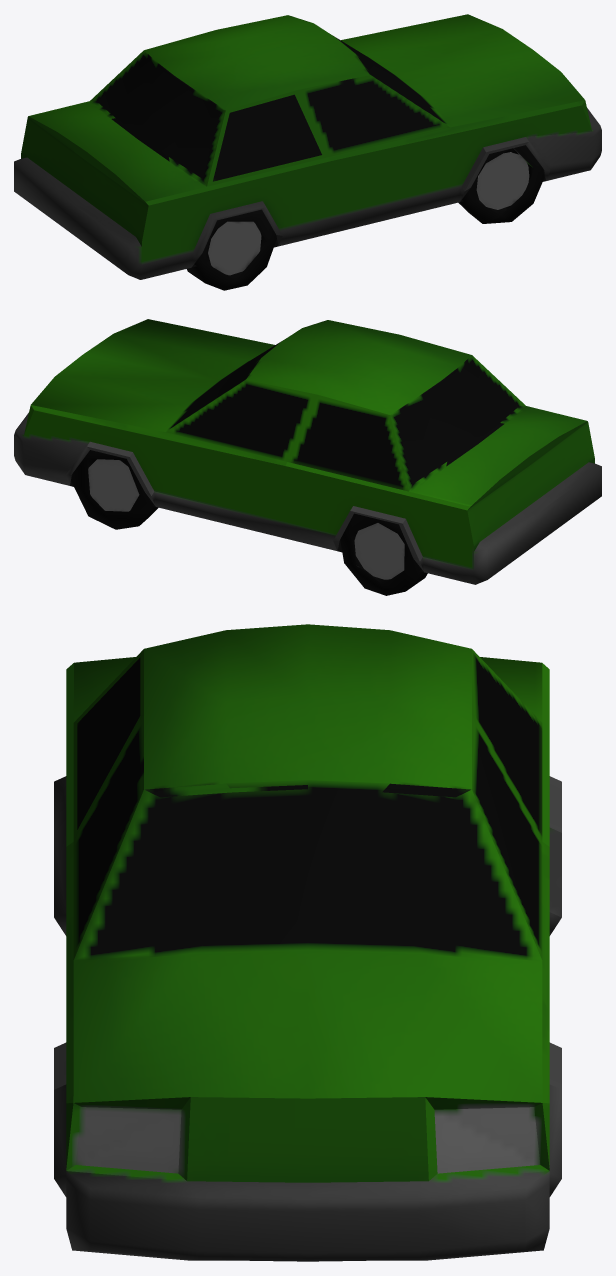
Rendered from car_0.fbx.
3 renders of one model, top to bottom at view 1: azimuth 30°, elevation 25°; view 2: azimuth 150°, elevation 25°; view 3: azimuth 270°, elevation 25°, orthographic. The views are drawn at different scales.
Visible parts, largest first — view 1: final; view 2: final; view 3: final.
Boxes of the visible parts, bbox=[...] form: final: bbox=[14, 14, 601, 290]; final: bbox=[14, 319, 601, 595]; final: bbox=[54, 624, 561, 1261].
Bounding box in the file's own units: 0.3666 × 0.2773 × 0.8143.
1 material, 1 textured.
